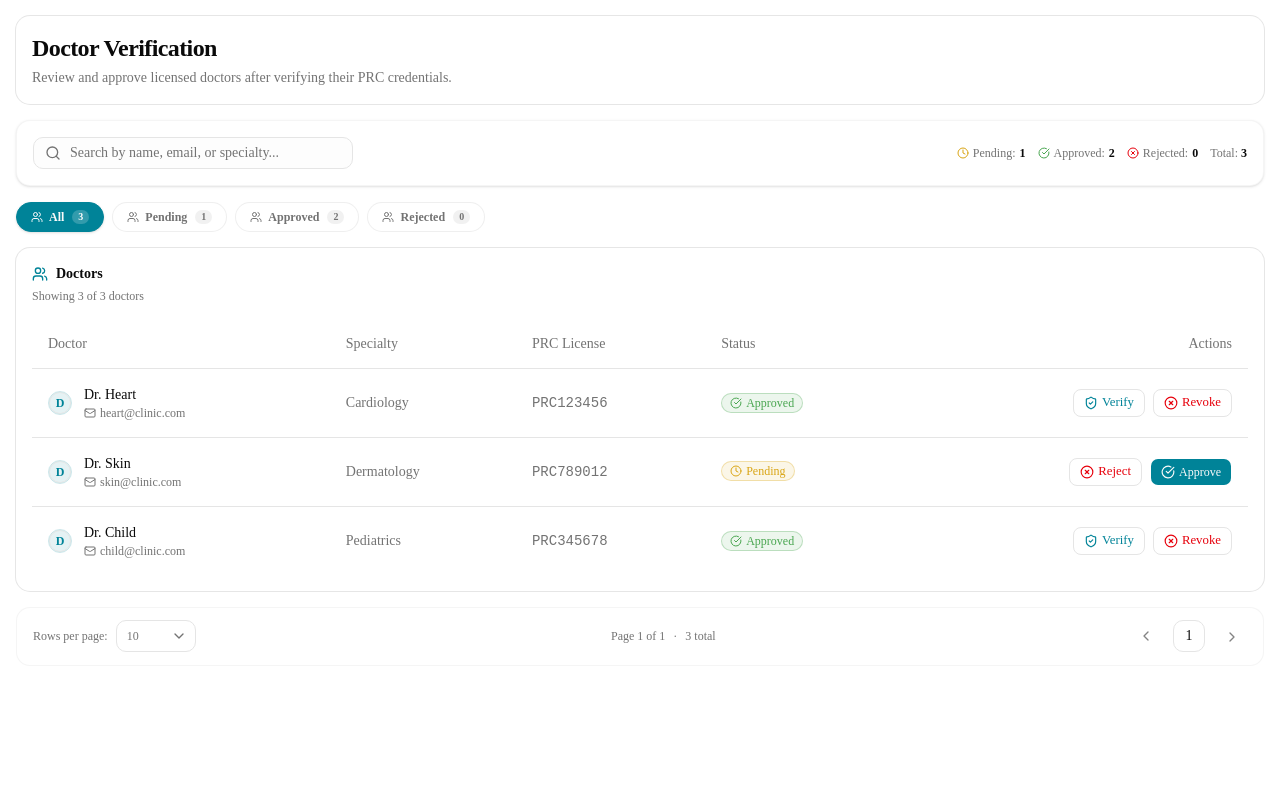
AdminDoctorsPage › closes the reject dialog without patching on Cancel
Expected: the text "Doctor Verification" is shown, 32,35 -> 217,61
Expected: the text "Dr. Heart" is shown, 84,386 -> 136,402
Click the button "Revoke" in the row of "Dr. Heart": (1192, 402) 1153,388 -> 1232,416
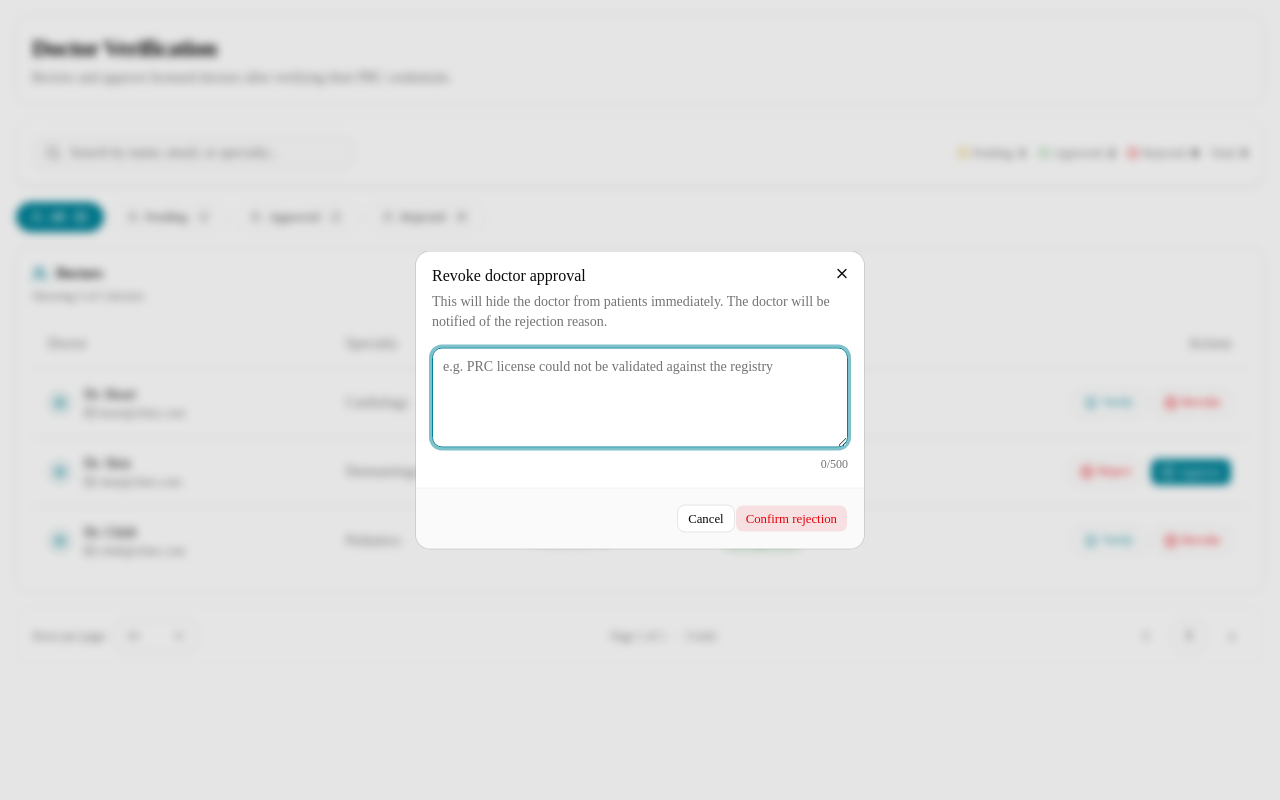
Expected: the heading "Revoke doctor approval" is shown, 432,266 -> 586,284
Click the button "Cancel": (706, 518) 677,504 -> 735,532
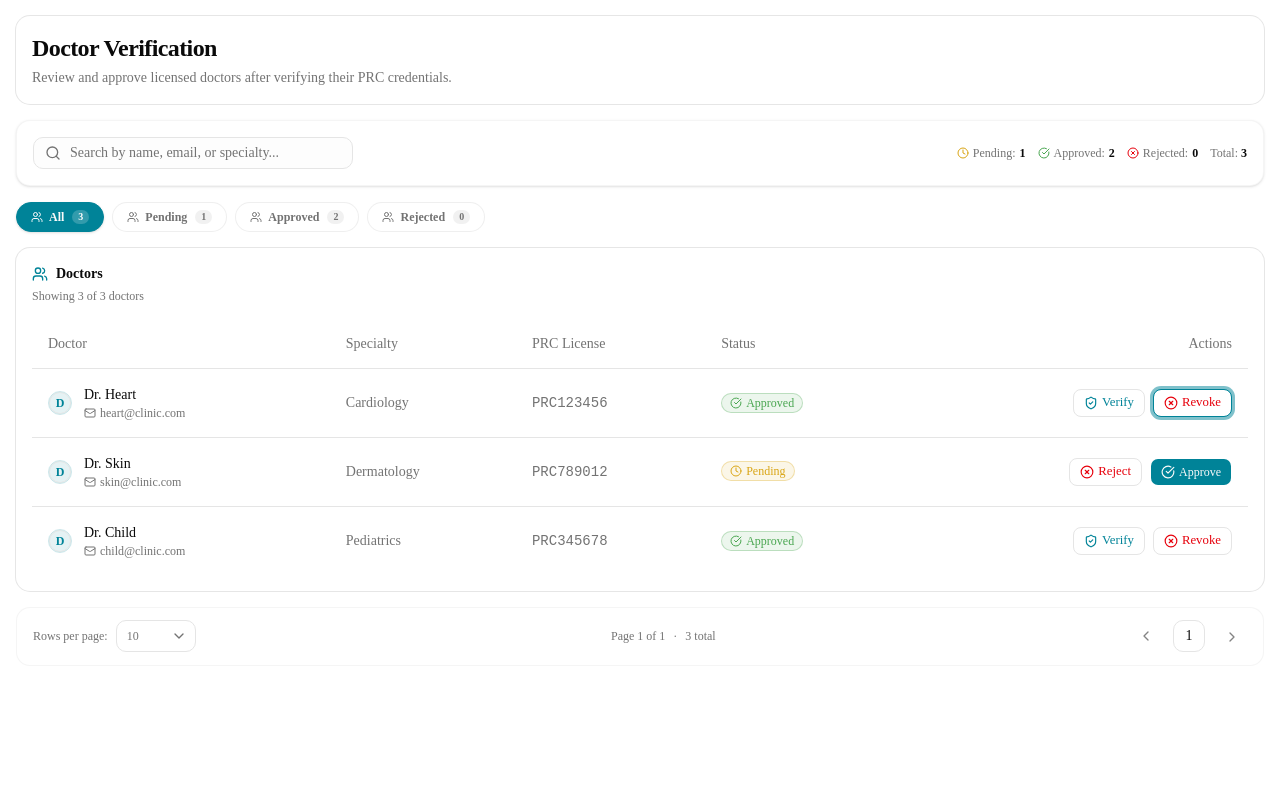
Expected: the heading "Revoke doctor approval" is gone
